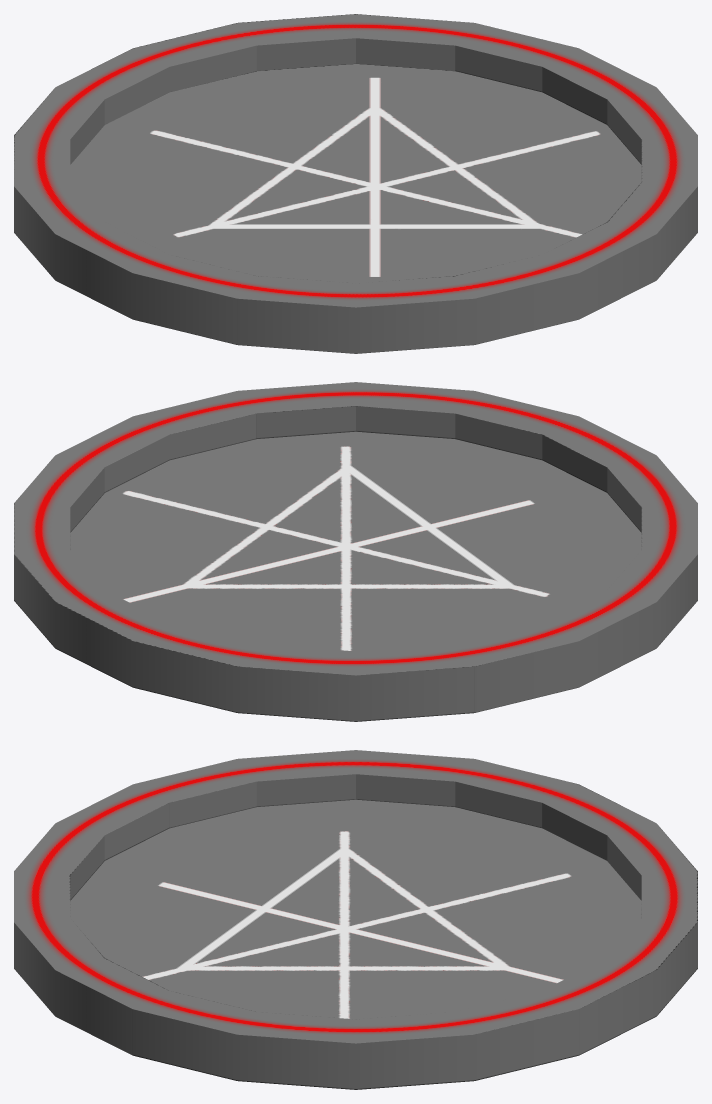
File: Fire Target.FBX
3 views of the same model, one above another, from view 1: azimuth 30°, elevation 25°; view 2: azimuth 150°, elevation 25°; view 3: azimuth 270°, elevation 25° (orthographic).
Visible parts, largest first — view 1: Fire Target; view 2: Fire Target; view 3: Fire Target.
Part boxes in pixels (x1,y1,x2,y2): Fire Target: (14, 14, 697, 353); Fire Target: (14, 382, 697, 721); Fire Target: (14, 750, 697, 1089).
Bounding box in the file's own units: 2.47 × 0.1818 × 2.43.
Materials: 1 (1 with a texture image).
